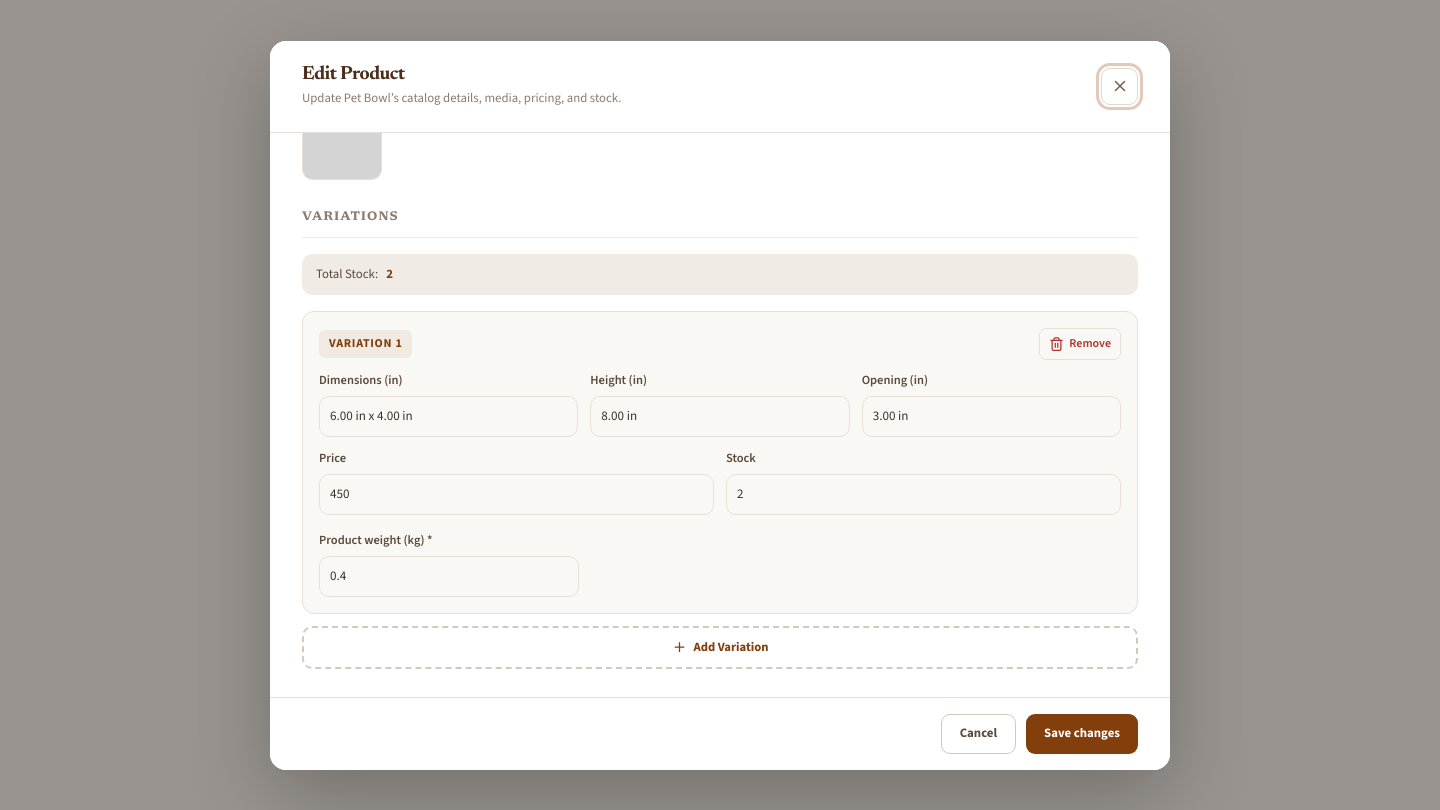
Test case: ProductEditorDialog › blocks saving invalid weight
(page scrolled)
Expected: the text "Variation 1" is shown, [319, 330, 412, 358]
Clear the number field labelled "Product weight (kg) *" at (449, 576), box [319, 556, 579, 597]
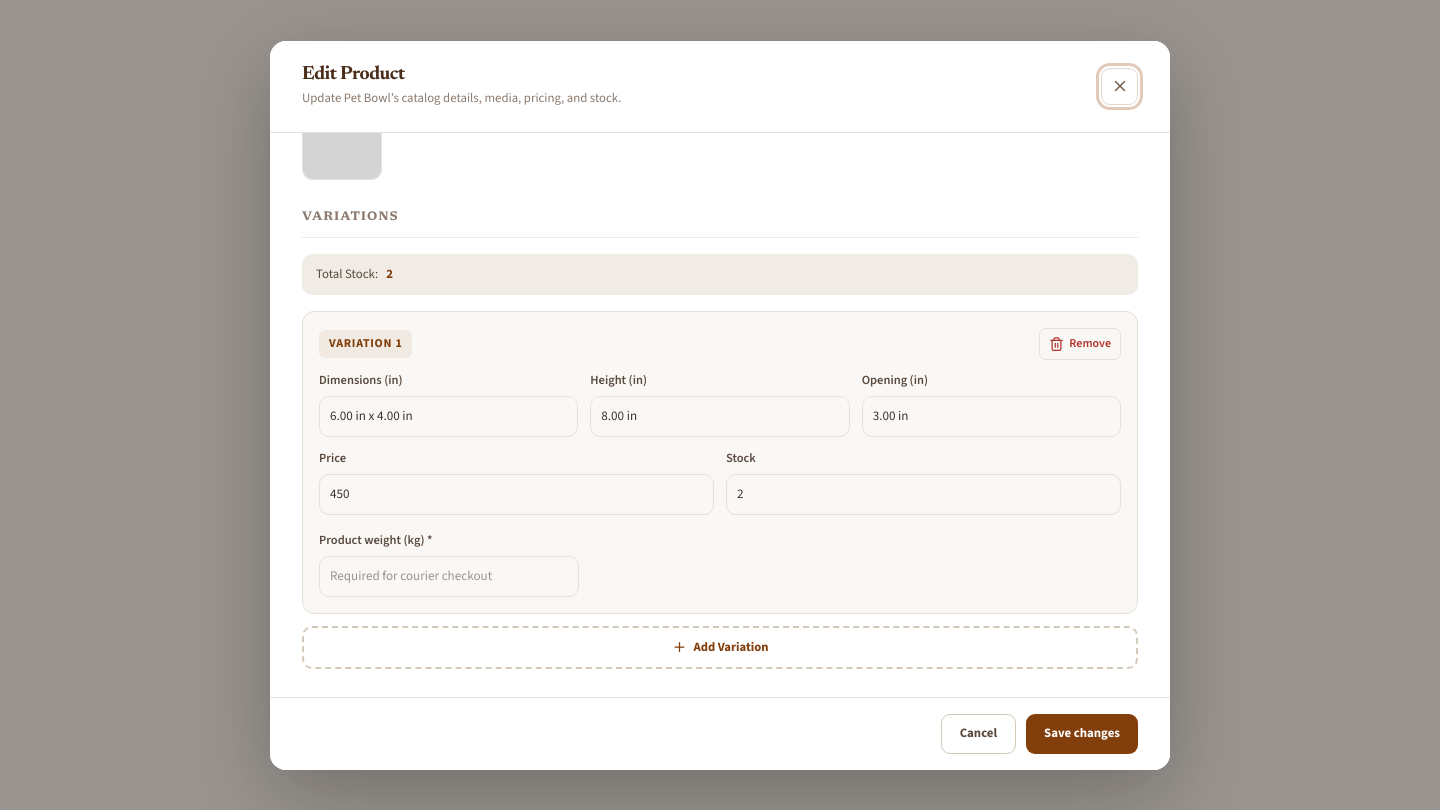
Click the button "Save changes" at (1082, 734), box [1026, 714, 1138, 754]
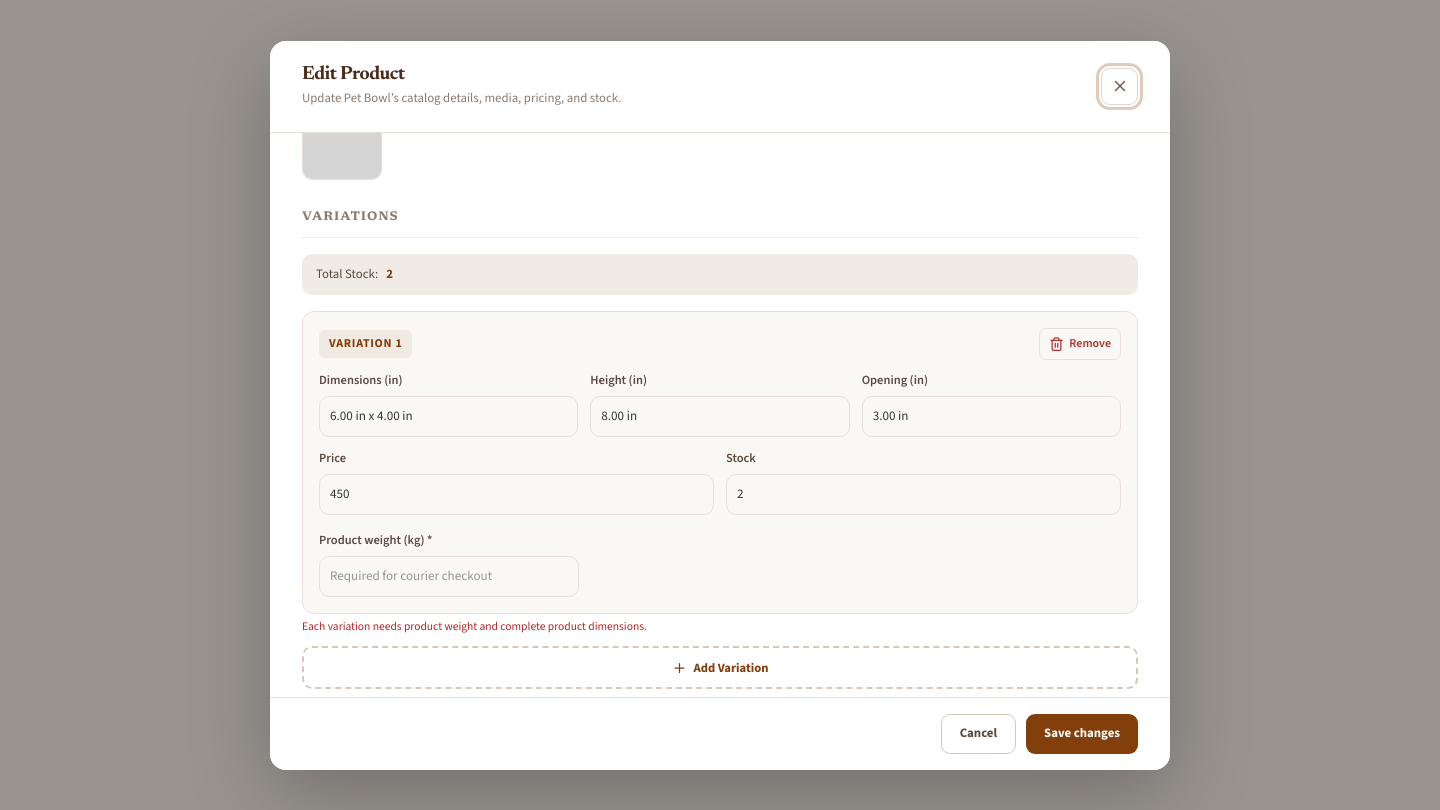
Now the message shows "needs product weight", box [302, 618, 647, 635]
